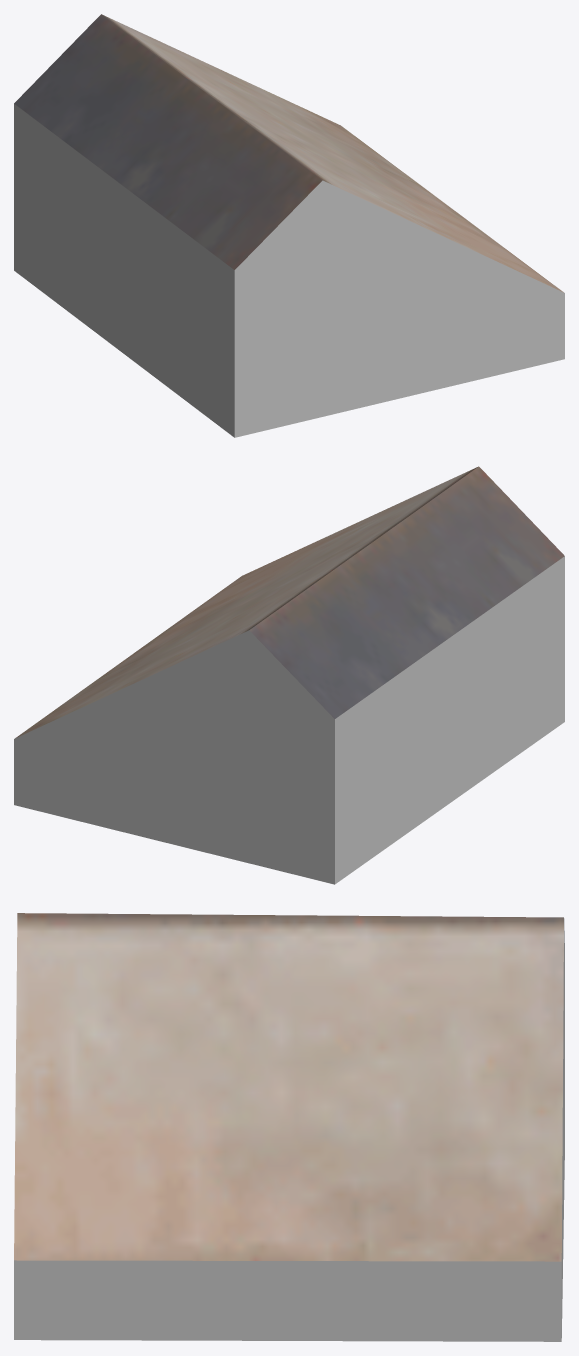
The model's file is DEBW_001000rlRR3.gltf.
3 renders of one model, top to bottom at view 1: azimuth 30°, elevation 25°; view 2: azimuth 150°, elevation 25°; view 3: azimuth 270°, elevation 25°, orthographic. The views are drawn at different scales.
Parts seen in each view (by area): view 1: Z_UP; view 2: Z_UP; view 3: Z_UP.
Boxes of the visible parts, bbox=[...] form: Z_UP: bbox=[14, 14, 564, 437]; Z_UP: bbox=[14, 466, 564, 884]; Z_UP: bbox=[14, 913, 564, 1341].
Bounding box in the file's own units: 12.88 × 8.78 × 15.38.
Materials: 2 (1 with a texture image).
